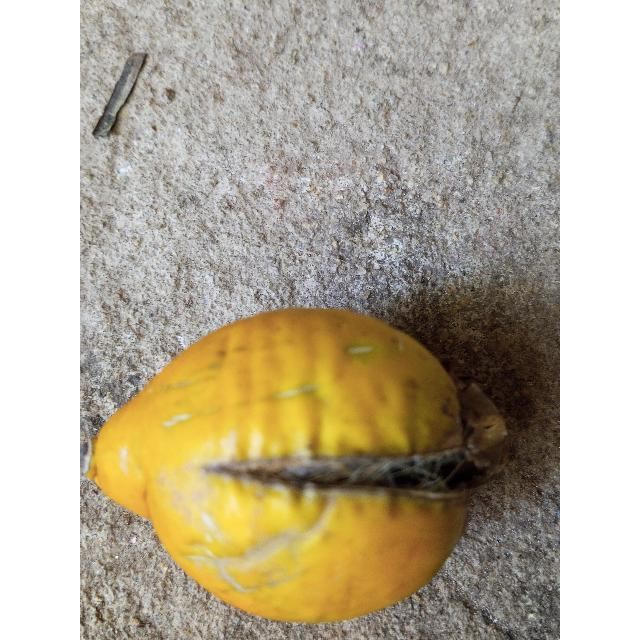damaged: (83, 309, 508, 622)
